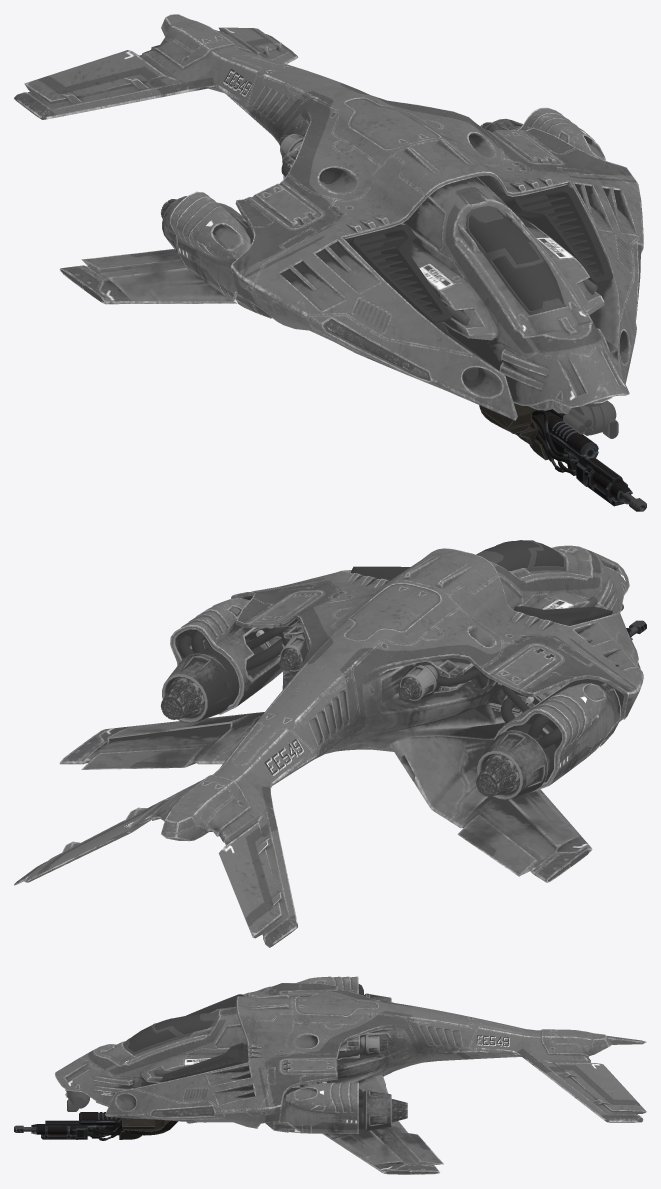
Rendered from fighter_a.glb.
The picture shows the model from 3 angles, top to bottom: view 1: azimuth 30°, elevation 25°; view 2: azimuth 150°, elevation 25°; view 3: azimuth 270°, elevation 25°; orthographic projection. The views are drawn at different scales.
Parts seen in each view (by area): view 1: fighter_a; view 2: fighter_a; view 3: fighter_a.
Part boxes in pixels (x1,y1,x2,y2): fighter_a: [14, 14, 646, 511]; fighter_a: [14, 540, 646, 947]; fighter_a: [14, 976, 646, 1174].
Bounding box in the file's own units: 7.25 × 3.13 × 13.
2 materials, 2 textured.
